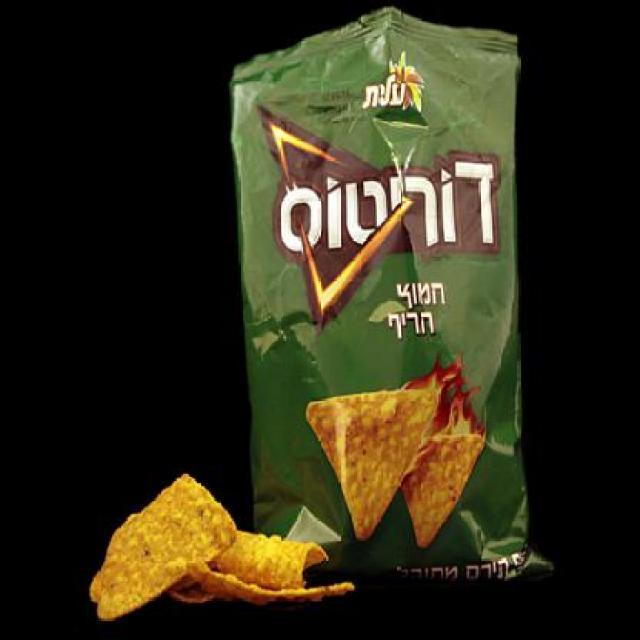Chips: (213, 17, 570, 603)
Chips packaged: (93, 464, 350, 618)
